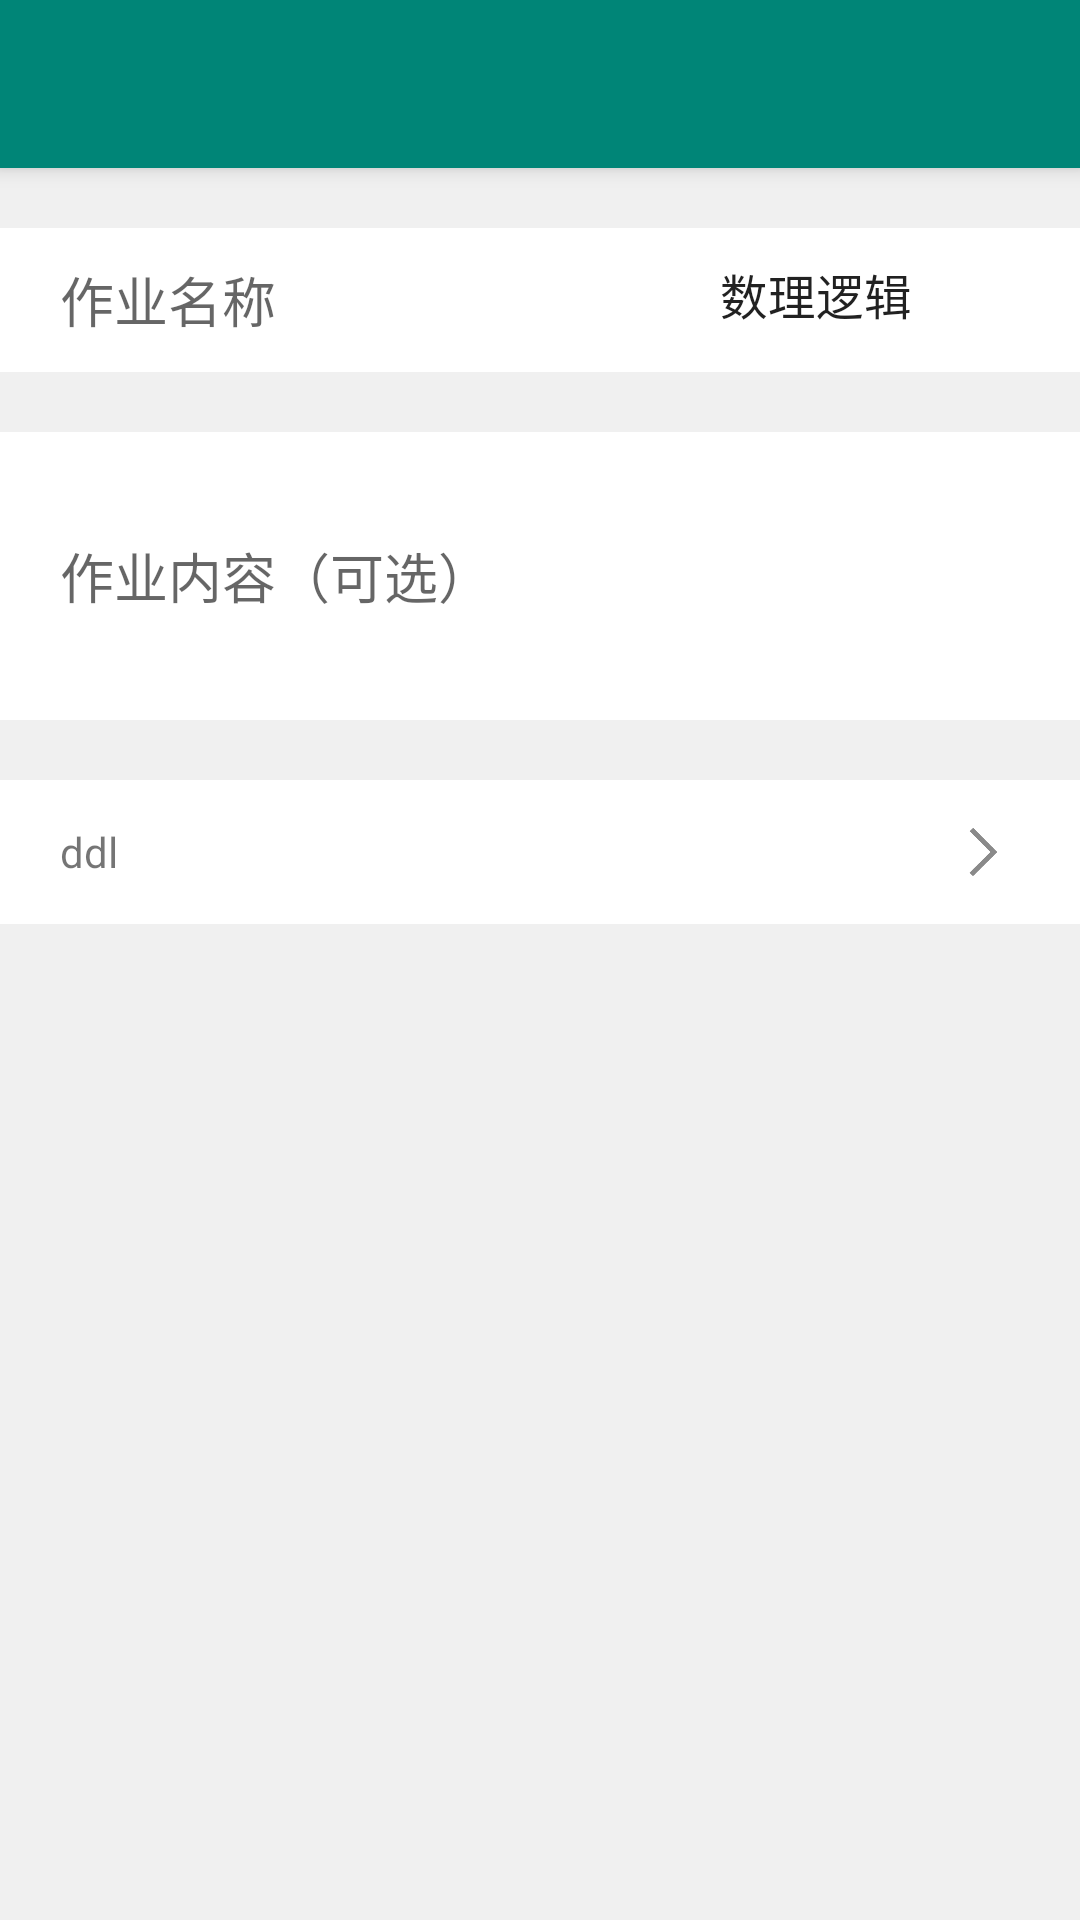

Icon bounding boxes for this 1080px×1920px phone screenshot, format (x1, y1, x2, y2):
arrow: (970, 828, 997, 876)
